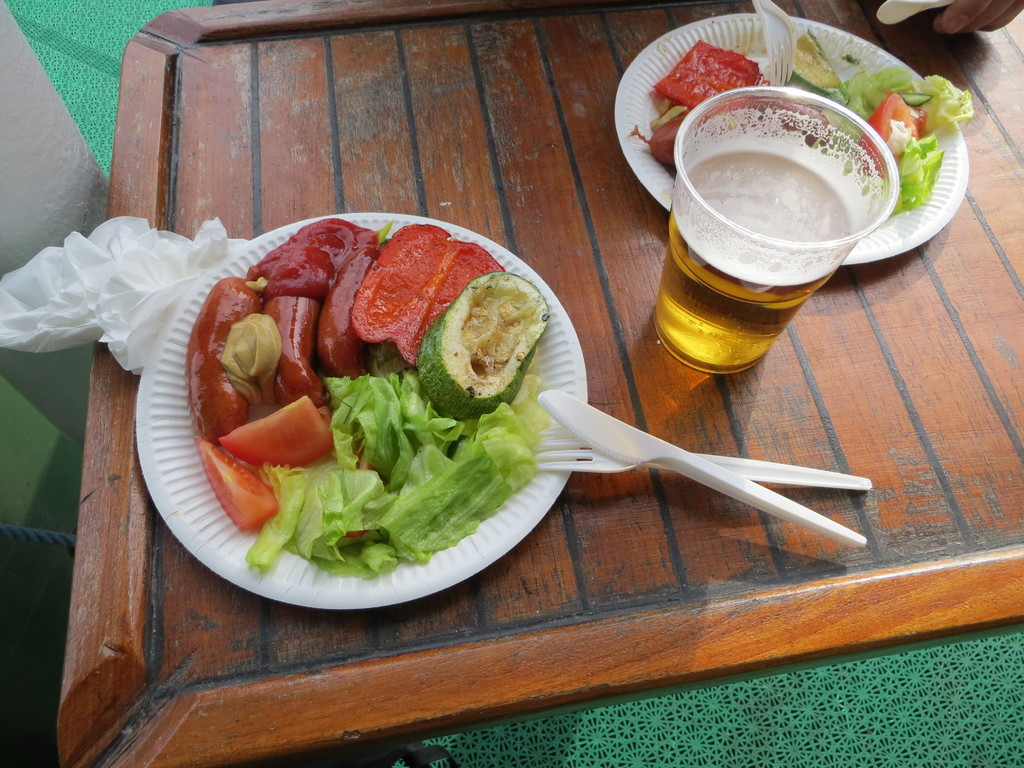salad: (180, 214, 550, 586), (639, 0, 988, 221)
